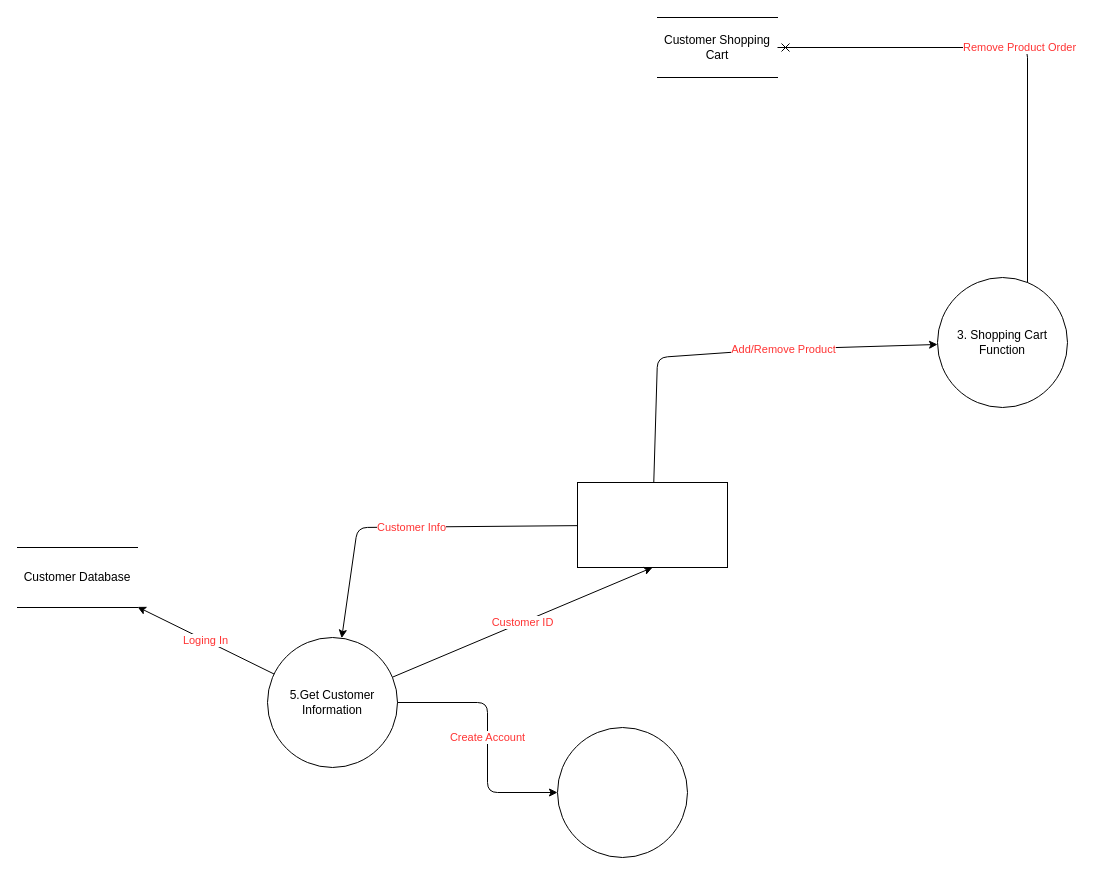
Image size: 1093x875. Some labels were removed from this diagram. Each missing label, with the centre of its shape:
"6.Create Amazon Account" belongs at [622,792].
"Customer" belongs at [652,525].
